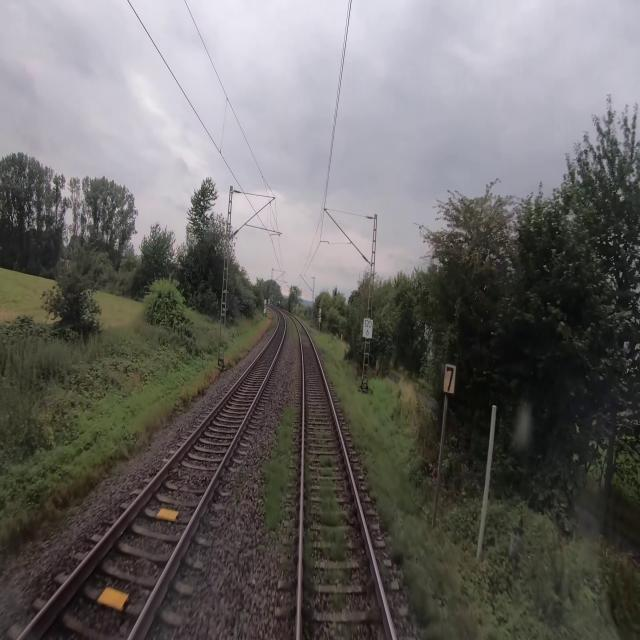Plant: (321, 353, 450, 639), (259, 405, 297, 532), (318, 454, 349, 606)
